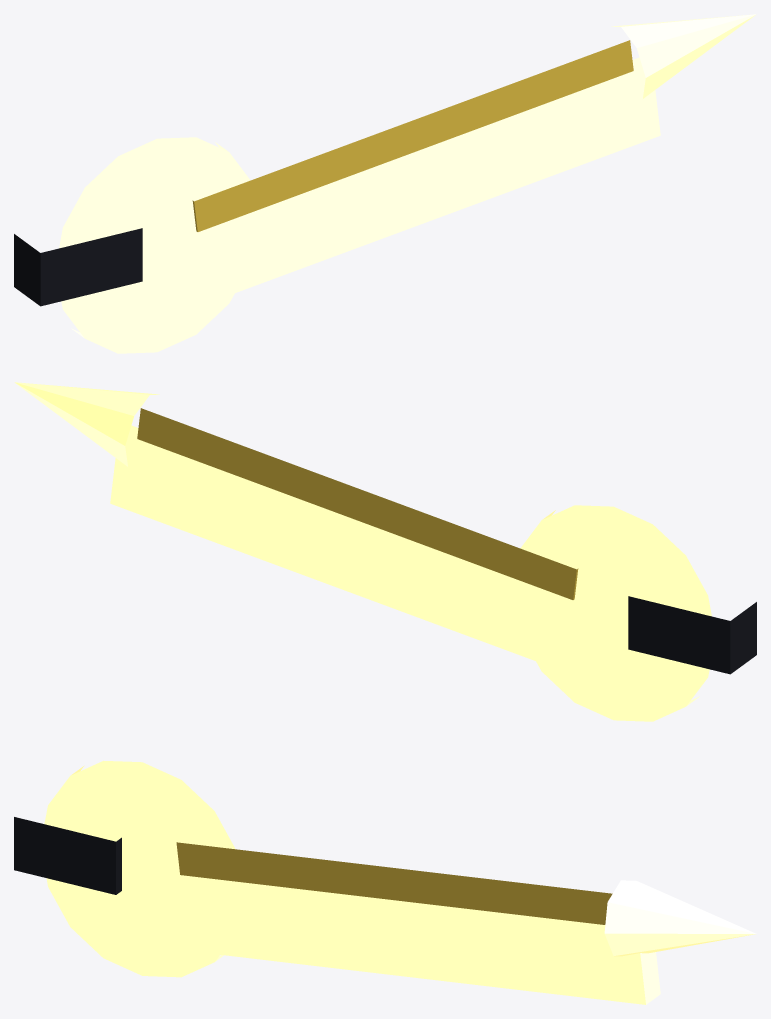
Rendered from radiance.glb.
3 views of the same model, one above another, from view 1: azimuth 30°, elevation 25°; view 2: azimuth 150°, elevation 25°; view 3: azimuth 330°, elevation 25° (orthographic).
Visible parts, largest first — view 1: radiance-blade, radiance-sun-disc, radiance-blade-2, radiance-grip, radiance-tip; view 2: radiance-blade, radiance-sun-disc, radiance-blade-2, radiance-grip, radiance-tip; view 3: radiance-blade, radiance-sun-disc, radiance-blade-2, radiance-tip, radiance-grip.
Boxes of the visible parts, <box> form: radiance-blade: <box>186,57,660,307</box>; radiance-sun-disc: <box>59,137,259,353</box>; radiance-blade-2: <box>192,40,633,231</box>; radiance-grip: <box>14,228,142,306</box>; radiance-tip: <box>611,14,756,98</box>; radiance-blade: <box>110,425,558,667</box>; radiance-sun-disc: <box>511,505,711,721</box>; radiance-blade-2: <box>137,408,578,599</box>; radiance-grip: <box>628,596,756,674</box>; radiance-tip: <box>14,382,159,466</box>; radiance-blade: <box>170,863,660,1004</box>; radiance-sun-disc: <box>44,760,243,977</box>; radiance-blade-2: <box>176,842,612,924</box>; radiance-tip: <box>604,880,756,956</box>; radiance-grip: <box>14,817,121,894</box>.
Size of the model in its own units: 1.43 by 0.4 by 0.14.
